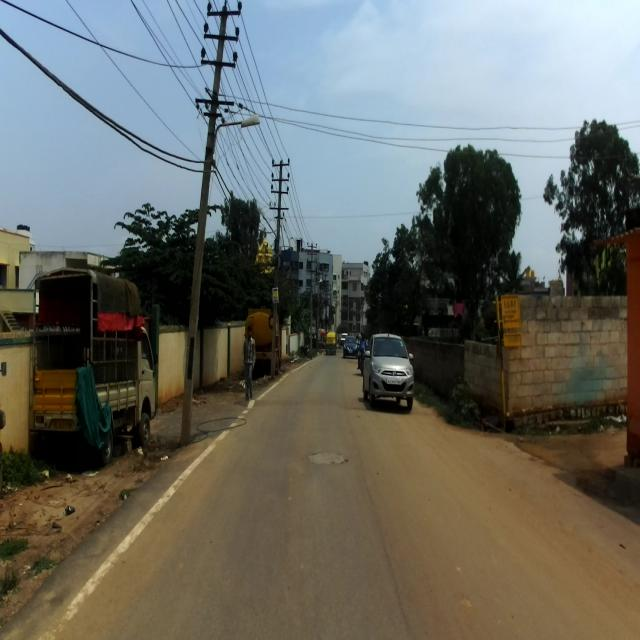Car_Hyundai: (362, 331, 418, 415)
Car_Maruti-Suzuki: (342, 335, 358, 357)
truck: (30, 266, 158, 464)
